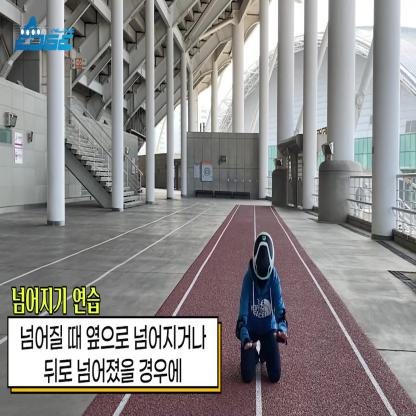Fall_Down: (234, 232, 289, 382)
